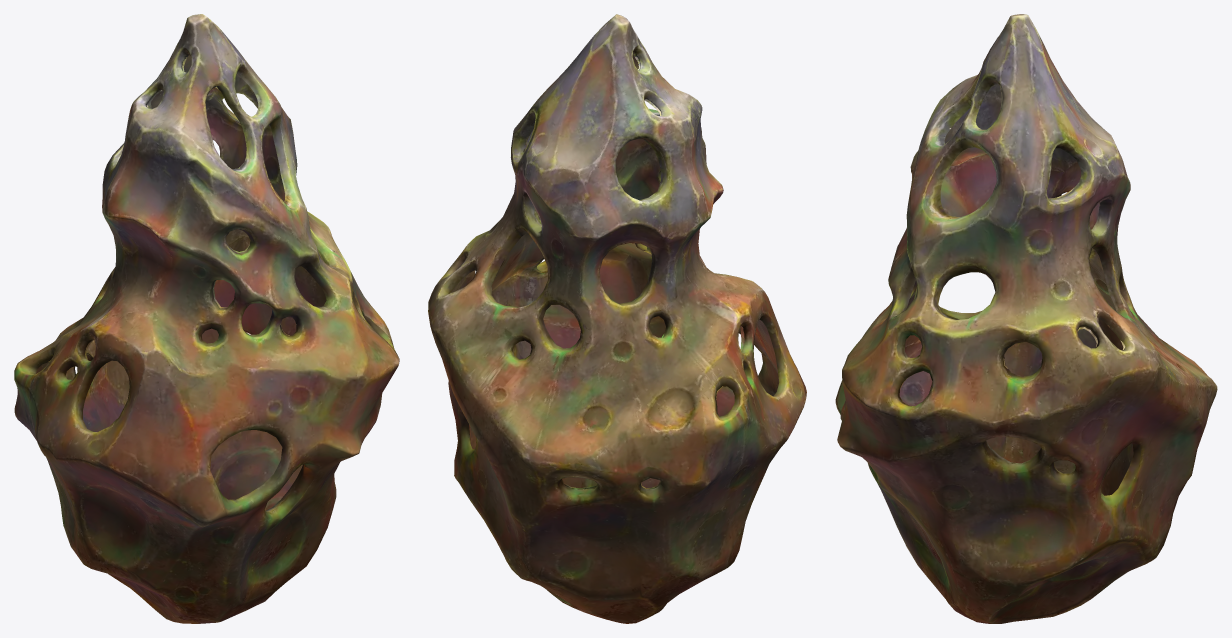
The picture shows the model from 3 angles, left to right: view 1: azimuth 30°, elevation 25°; view 2: azimuth 150°, elevation 25°; view 3: azimuth 270°, elevation 25°; orthographic projection.
Visible parts, largest first — view 1: SM_Poison_Rock_LOD0; view 2: SM_Poison_Rock_LOD0; view 3: SM_Poison_Rock_LOD0.
Boxes of the visible parts, <box> form: SM_Poison_Rock_LOD0: <box>14,14,399,623</box>; SM_Poison_Rock_LOD0: <box>428,14,806,623</box>; SM_Poison_Rock_LOD0: <box>835,14,1217,623</box>.
Bounding box in the file's own units: 2.86 × 5.1 × 2.9.
Materials: 1 (1 with a texture image).
